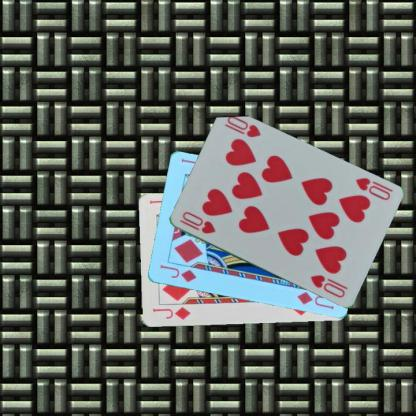10h: (352, 175, 391, 202), (176, 209, 216, 235)
Jd: (157, 262, 198, 284), (150, 304, 191, 322)
